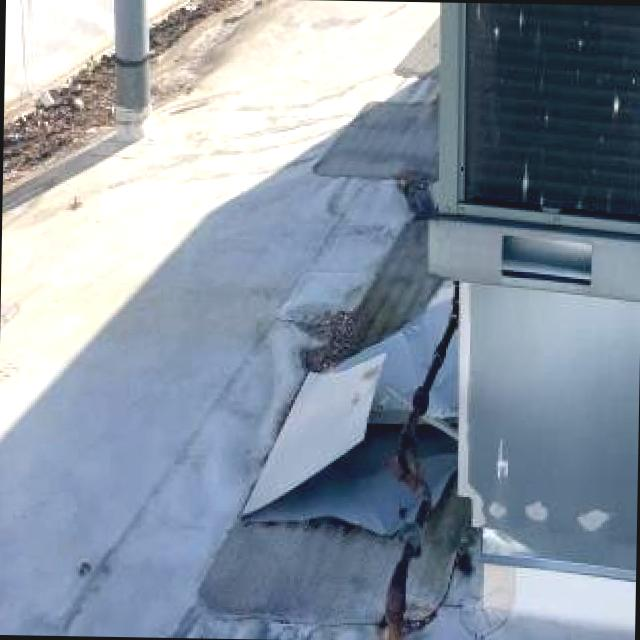GRAVITY-VENT: (83, 0, 157, 131)
RTU: (407, 1, 640, 331)
